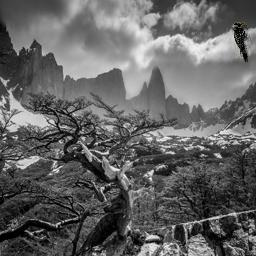Woodpecker: (232, 22, 252, 64)
